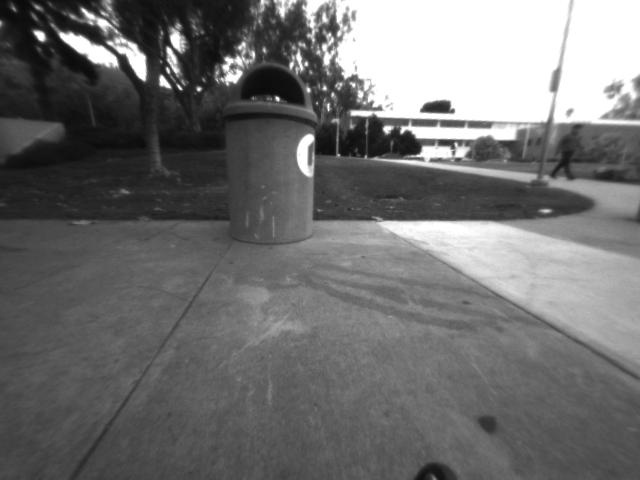trashcan: (218, 57, 325, 252)
